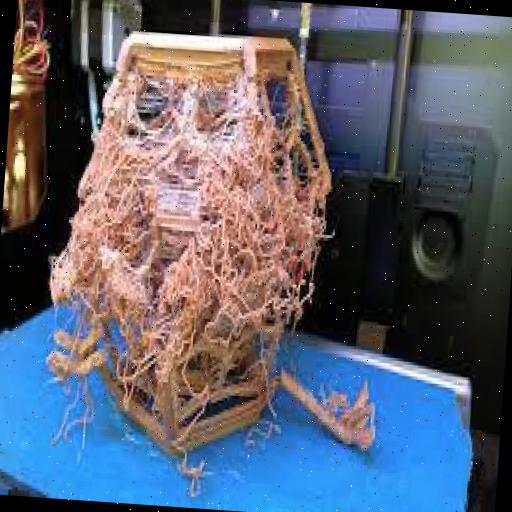spaghetti: (34, 10, 360, 460)
